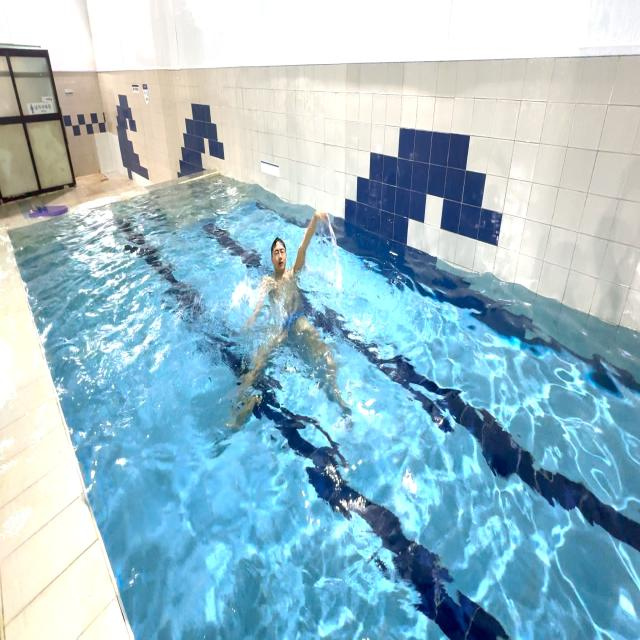Drowning: (222, 200, 343, 420)
